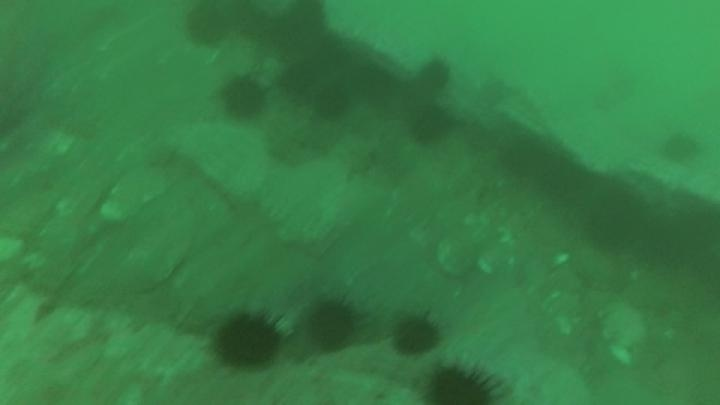echinus: (211, 310, 285, 372), (582, 187, 646, 251), (424, 359, 503, 404), (305, 296, 360, 354), (390, 311, 443, 358), (219, 74, 269, 122), (183, 3, 234, 49), (278, 57, 326, 102), (407, 102, 452, 147), (283, 1, 329, 41), (311, 83, 352, 122), (659, 130, 702, 166), (415, 56, 454, 94)
